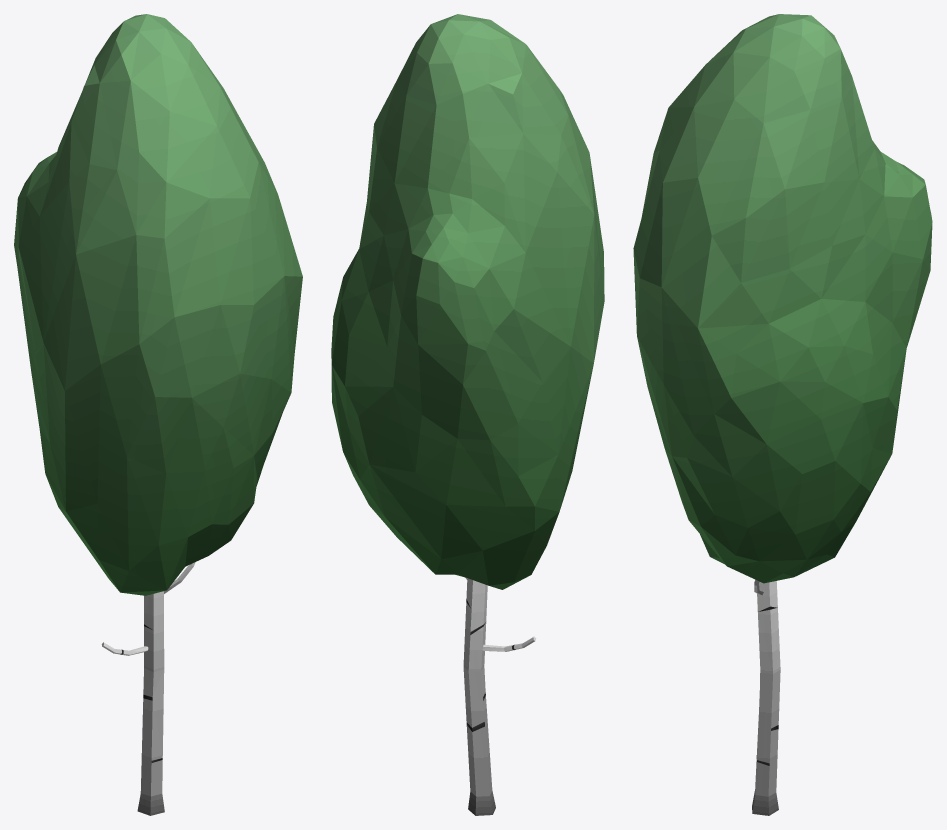
File: betula.glb
The picture shows the model from 3 angles, left to right: view 1: azimuth 30°, elevation 25°; view 2: azimuth 150°, elevation 25°; view 3: azimuth 270°, elevation 25°; orthographic projection. The views are drawn at different scales.
Visible parts, largest first — view 1: BirchTreeAdultA; view 2: BirchTreeAdultA; view 3: BirchTreeAdultA.
Part boxes in pixels (box(x1,y1,x2,y2)): BirchTreeAdultA: box(14, 14, 302, 815); BirchTreeAdultA: box(331, 14, 604, 815); BirchTreeAdultA: box(633, 14, 932, 815).
Bounding box in the file's own units: 2.73 × 8.99 × 3.05.
Materials: 1 (1 with a texture image).
